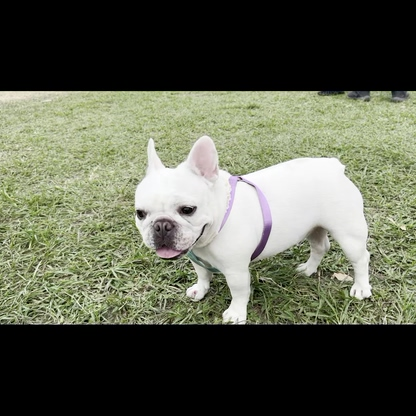bulldog: (132, 134, 372, 324)
